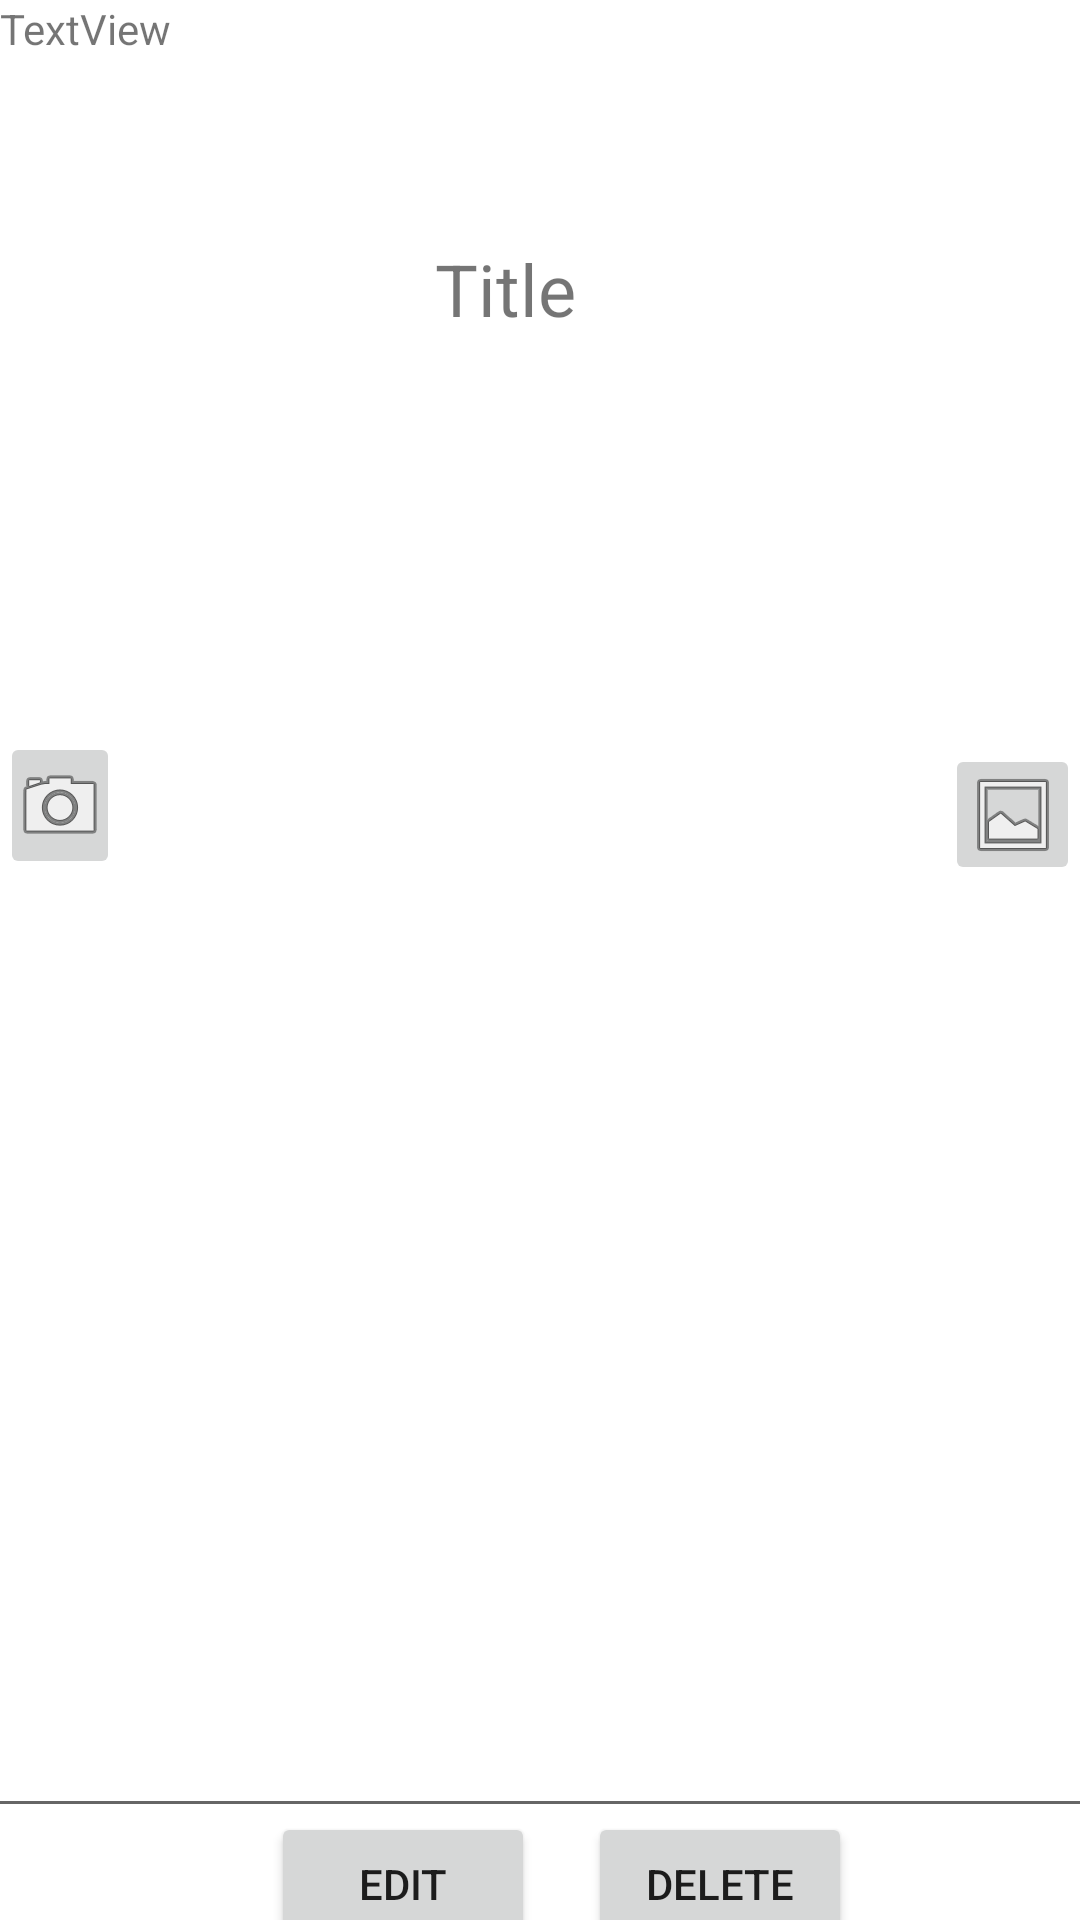

Where to tap for icons on this 1080px x 1920px app screen, as (x,y):
camera: (60,805)
gallery: (1012,814)
